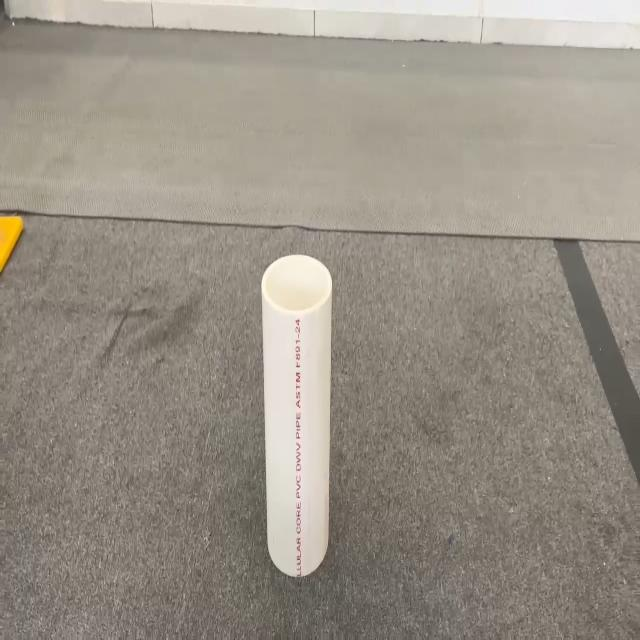coral: (260, 252, 332, 577)
